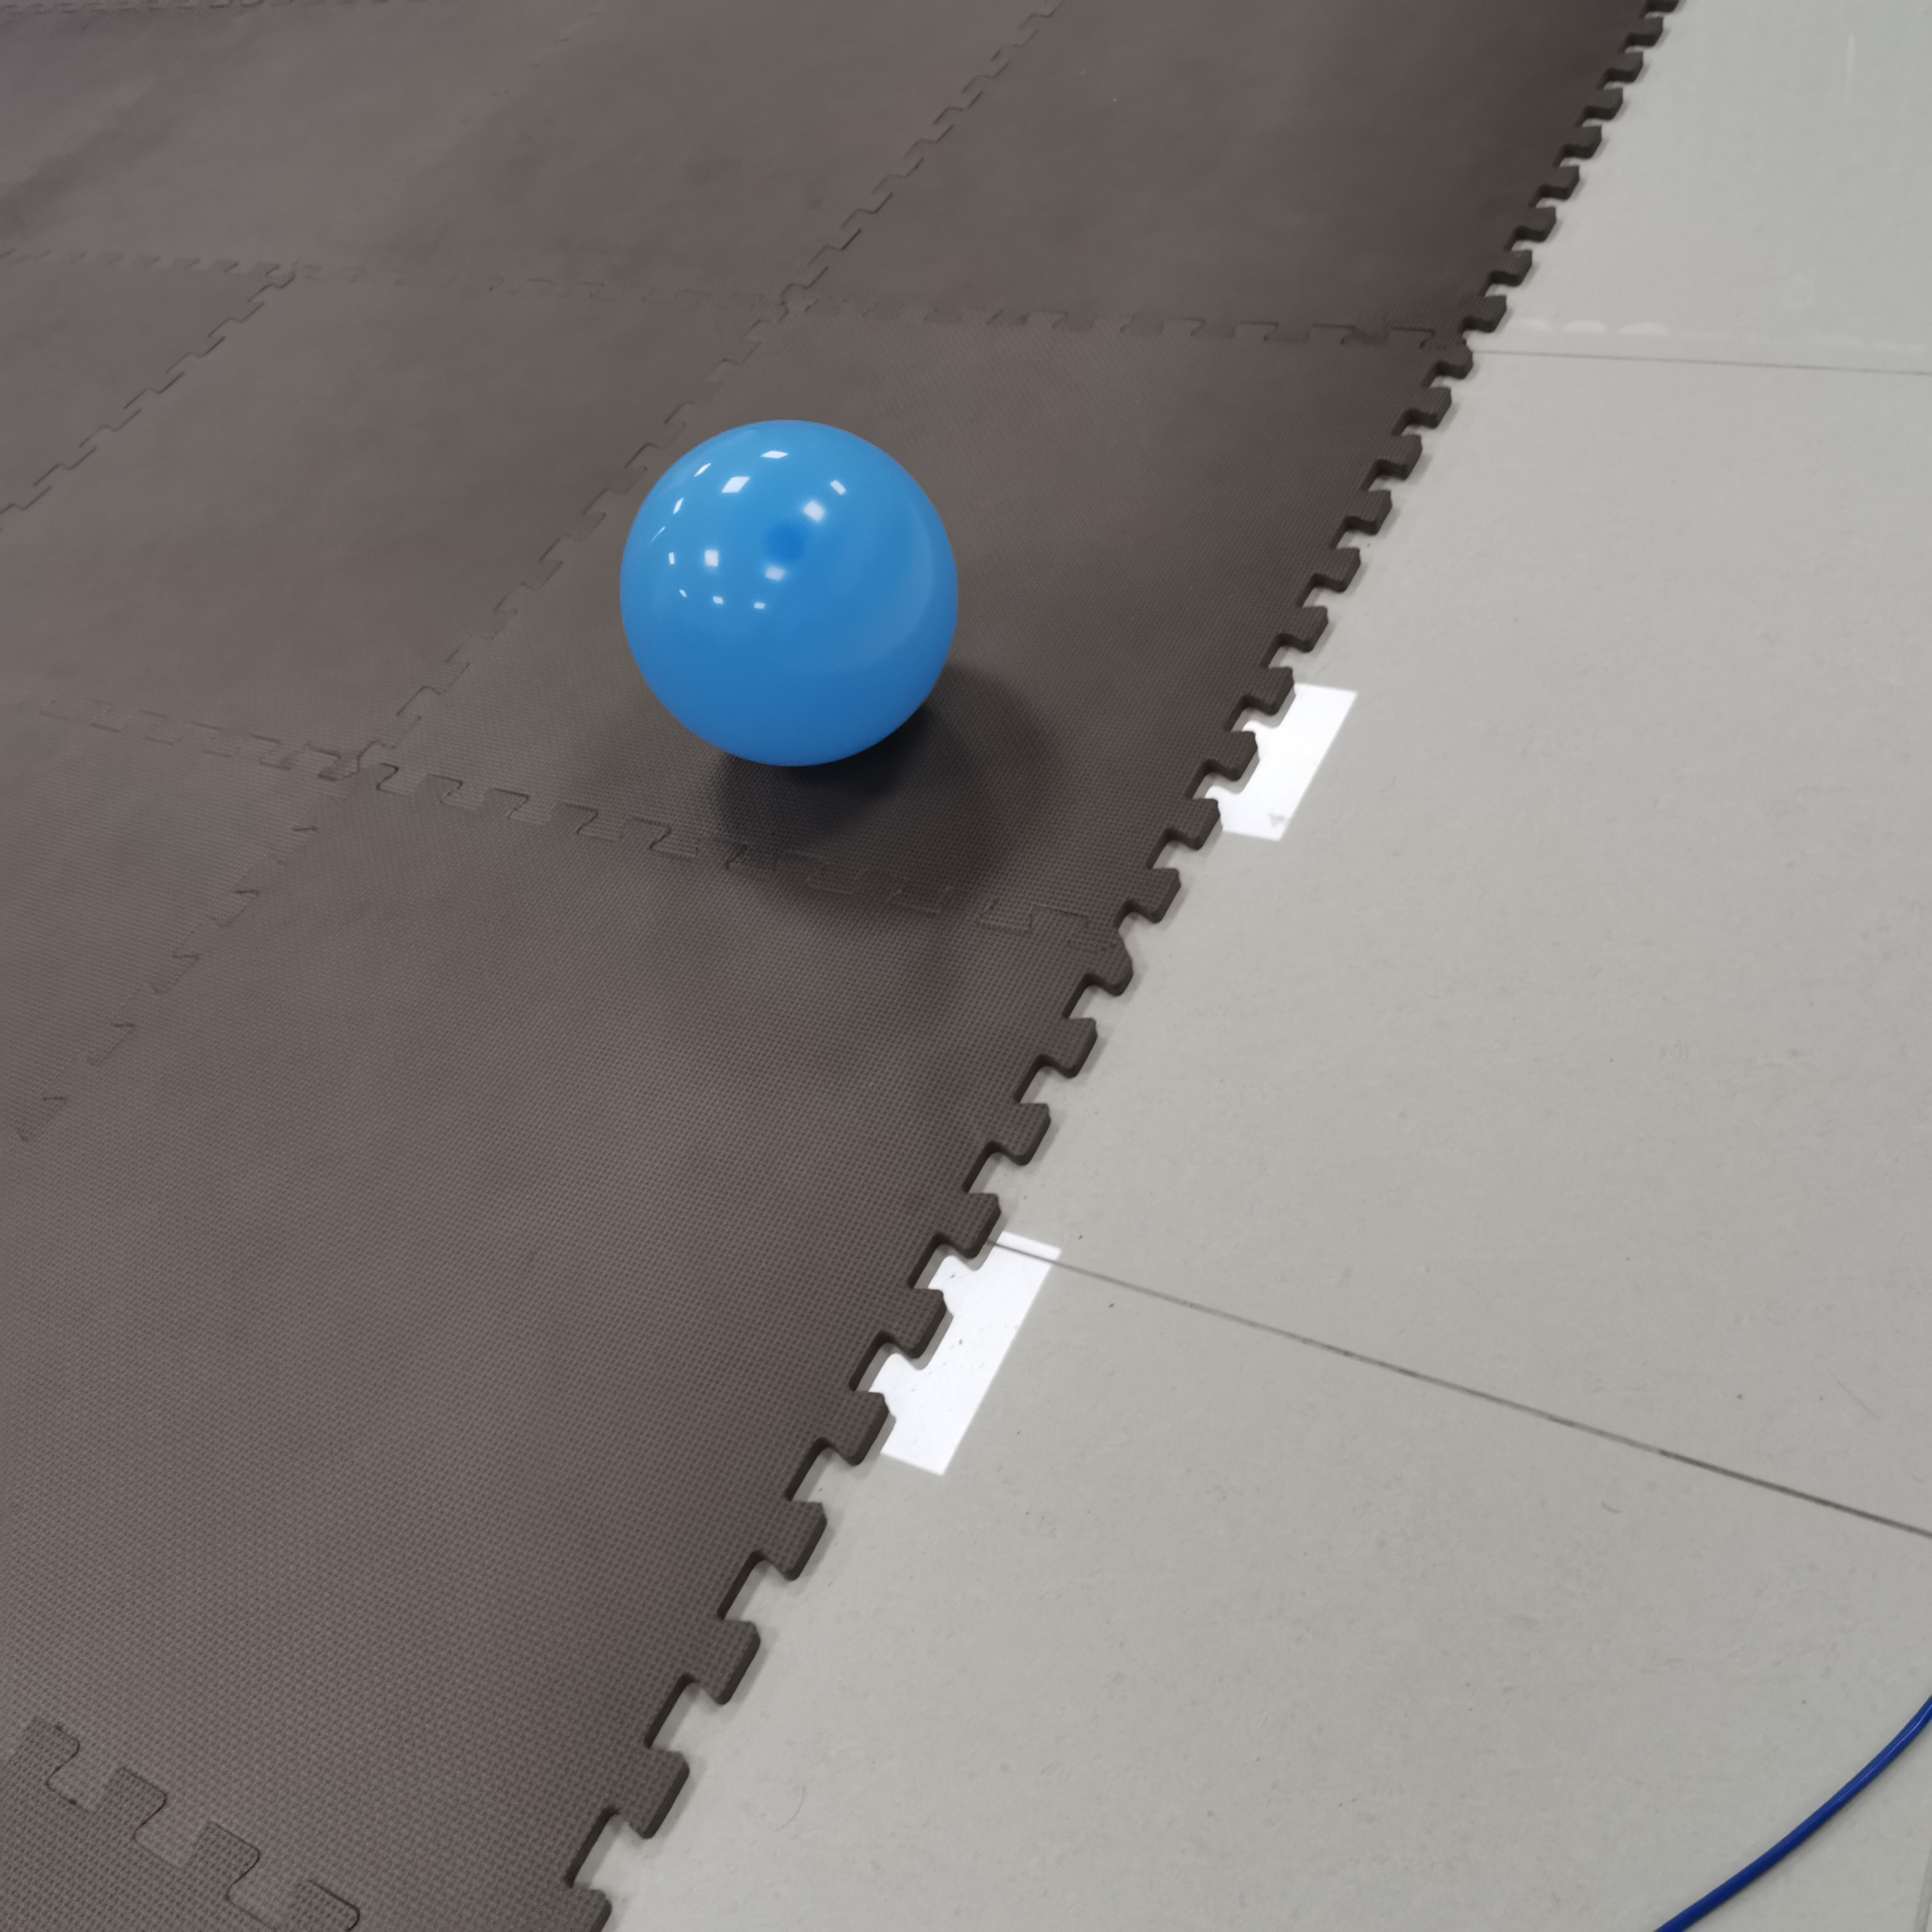balloon: (617, 421, 957, 766)
